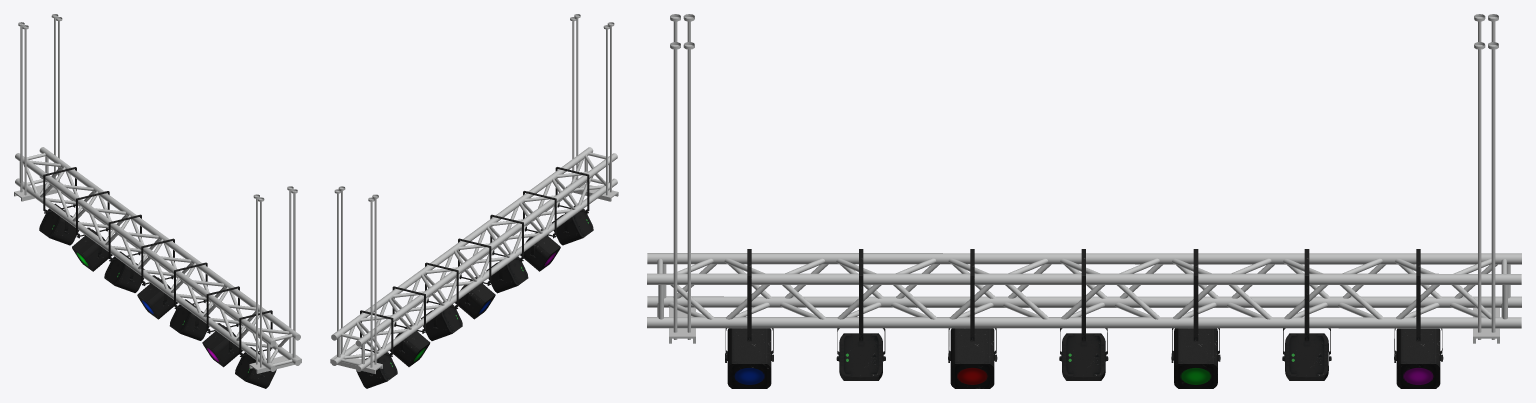
The model's file is Prop_LightTruss.fbx.
The picture shows the model from 3 angles, left to right: view 1: azimuth 30°, elevation 25°; view 2: azimuth 150°, elevation 25°; view 3: azimuth 270°, elevation 25°; orthographic projection. The views are drawn at different scales.
Parts seen in each view (by area): view 1: LightTruss_ironwork, LightTruss_Green, LightTruss_Red, LightTruss_Pink, LightTruss_Green_2, LightTruss_Pink_2, LightTruss_Blue_2, LightTruss_Blue, LightTruss_AnchorBar_2, LightTruss_AnchorBar_5, LightTruss_AnchorBar_4, LightTruss_AnchorBar_7 (+3 smaller); view 2: LightTruss_ironwork, LightTruss_Blue, LightTruss_Red, LightTruss_Green, LightTruss_Green_2, LightTruss_Pink_2, LightTruss_Blue_2, LightTruss_Pink, LightTruss_AnchorBar_1, LightTruss_AnchorBar_2, LightTruss_AnchorBar_5, LightTruss_AnchorBar_4 (+3 smaller); view 3: LightTruss_ironwork, LightTruss_Red, LightTruss_Blue, LightTruss_Pink, LightTruss_Green, LightTruss_Green_2, LightTruss_Pink_2, LightTruss_Blue_2.
Part boxes in pixels (x1,y1,x2,y2): LightTruss_ironwork: [14, 14, 301, 373]; LightTruss_Green: [104, 256, 144, 292]; LightTruss_Red: [169, 304, 210, 340]; LightTruss_Pink: [39, 208, 79, 245]; LightTruss_Green_2: [72, 229, 112, 271]; LightTruss_Pink_2: [202, 325, 242, 367]; LightTruss_Blue_2: [137, 277, 177, 319]; LightTruss_Blue: [235, 352, 276, 388]; LightTruss_AnchorBar_2: [206, 286, 239, 353]; LightTruss_AnchorBar_5: [108, 214, 141, 281]; LightTruss_AnchorBar_4: [141, 238, 174, 306]; LightTruss_AnchorBar_7: [43, 167, 76, 233]; LightTruss_ironwork: [330, 14, 618, 373]; LightTruss_Blue: [551, 209, 593, 245]; LightTruss_Red: [486, 256, 528, 293]; LightTruss_Green: [421, 304, 462, 340]; LightTruss_Green_2: [389, 325, 430, 366]; LightTruss_Pink_2: [520, 233, 560, 271]; LightTruss_Blue_2: [455, 280, 495, 319]; LightTruss_Pink: [356, 352, 397, 388]; LightTruss_AnchorBar_1: [555, 167, 589, 233]; LightTruss_AnchorBar_2: [523, 191, 556, 257]; LightTruss_AnchorBar_5: [425, 262, 458, 329]; LightTruss_AnchorBar_4: [458, 238, 491, 305]; LightTruss_ironwork: [647, 14, 1521, 343]; LightTruss_Red: [950, 328, 994, 388]; LightTruss_Blue: [727, 328, 771, 388]; LightTruss_Pink: [1396, 328, 1440, 388]; LightTruss_Green: [1174, 328, 1217, 388]; LightTruss_Green_2: [1285, 333, 1328, 380]; LightTruss_Pink_2: [839, 333, 882, 380]; LightTruss_Blue_2: [1062, 333, 1105, 380].
Bounding box in the file's own units: 30.84 × 137 × 306.
